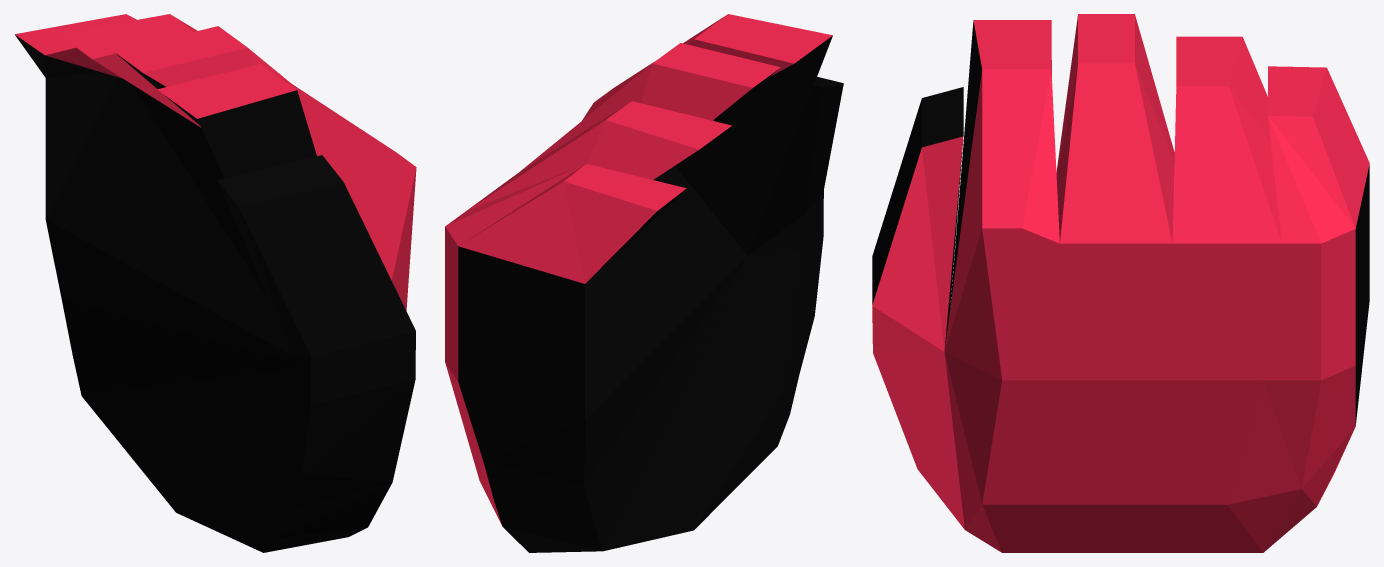
The model's file is miniHand.obj.
3 renders of one model, left to right at view 1: azimuth 30°, elevation 25°; view 2: azimuth 150°, elevation 25°; view 3: azimuth 270°, elevation 25°, orthographic. The views are drawn at different scales.
Parts seen in each view (by area): view 1: パンチ左_立方体.002; view 2: パンチ左_立方体.002; view 3: パンチ左_立方体.002.
Part boxes in pixels (left/top/right/bottom): パンチ左_立方体.002: left=15, top=14, right=416, bottom=552; パンチ左_立方体.002: left=445, top=14, right=843, bottom=552; パンチ左_立方体.002: left=872, top=14, right=1369, bottom=552.
Bounding box in the file's own units: 0.7655 × 1.56 × 1.52.
Materials: 1 (1 with a texture image).
